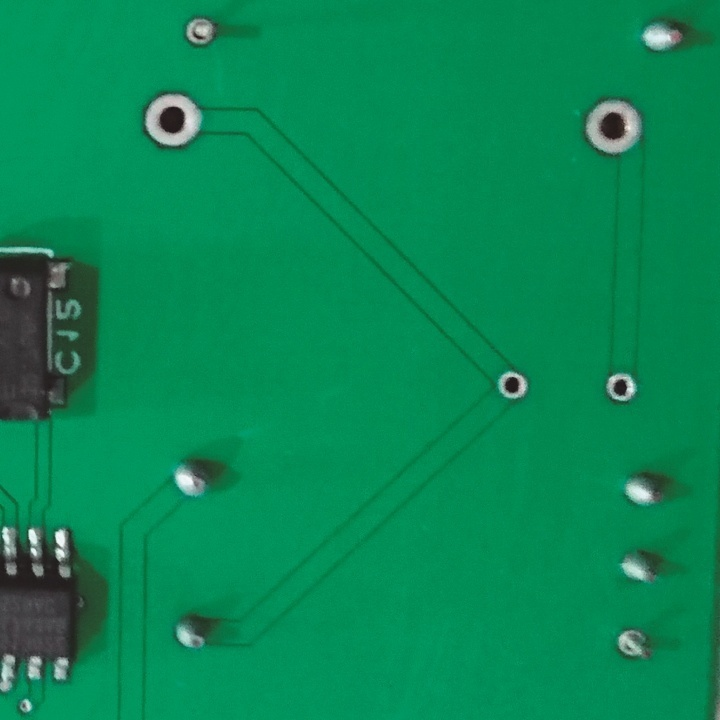F: (135, 87, 207, 152), (582, 92, 647, 159), (615, 623, 653, 669), (182, 14, 221, 58), (493, 365, 532, 403), (601, 366, 638, 406)
